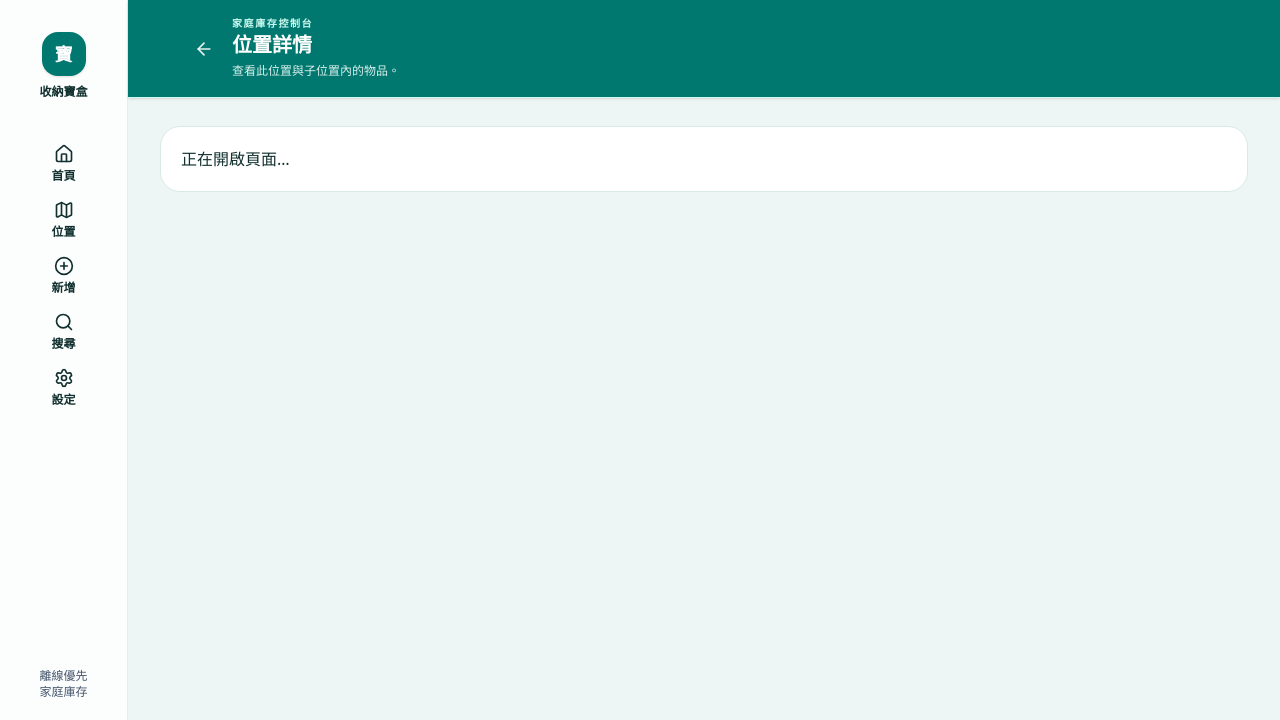
Test: app back navigation › falls back to the parent page when opened without in-app history
Expected: the heading "位置詳情" is shown, [232,31,312,58]
Step 1. Click the button named "返回" → (204, 48), box [180,24,228,72]
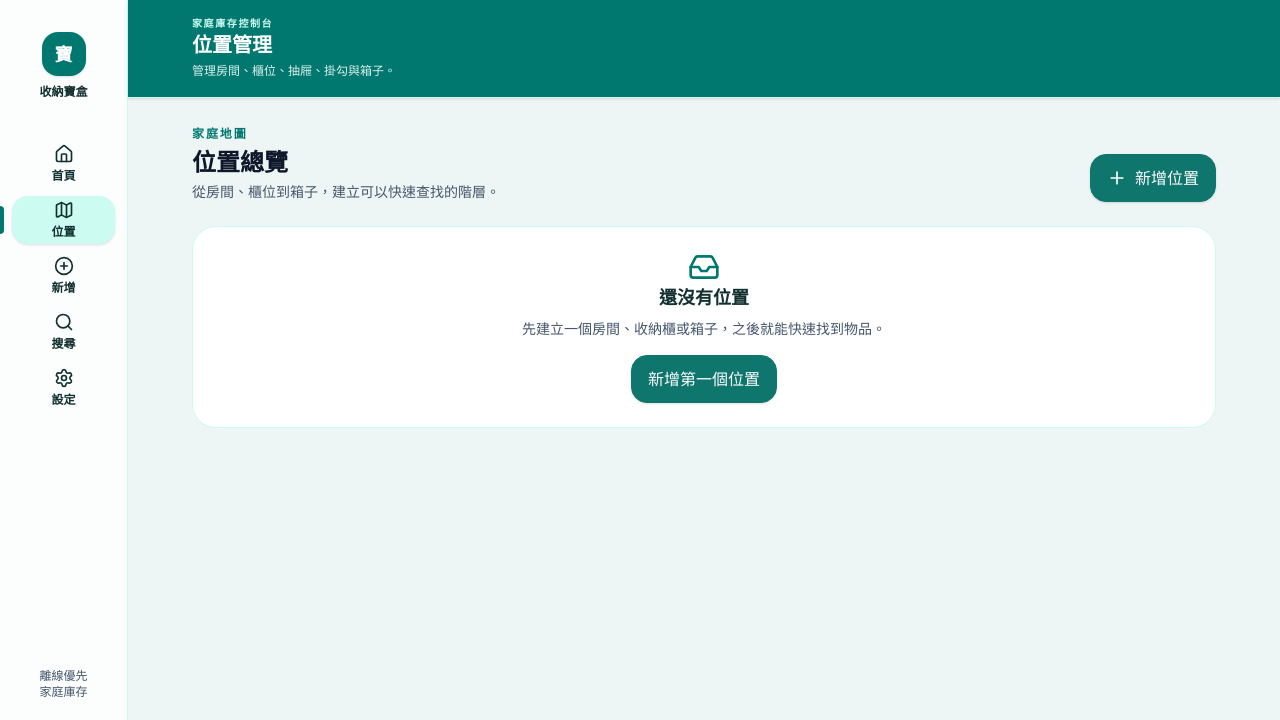
Expected: the heading "位置管理" is shown, [192,31,272,58]
Expected: the button labelled "返回" is gone
